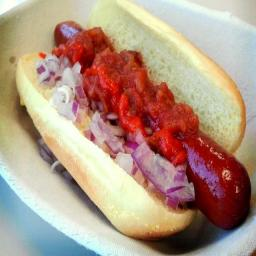hotdog: (15, 0, 253, 240)
